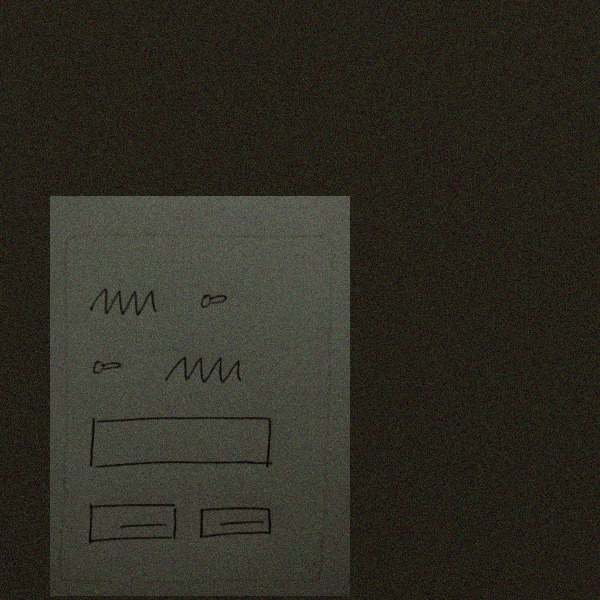button: (81, 499, 184, 547), (195, 503, 283, 543)
switch: (85, 352, 130, 382), (193, 290, 240, 314)
text: (160, 349, 257, 388), (81, 280, 165, 320)
text_input: (83, 412, 280, 472)
